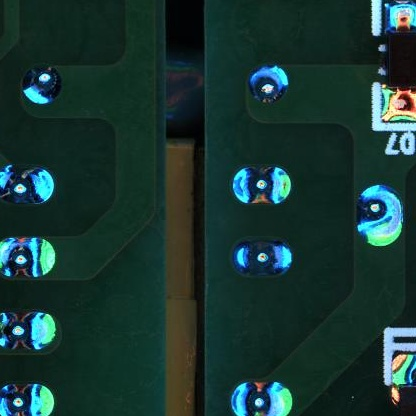spot: (358, 183, 403, 247), (1, 310, 58, 355), (230, 237, 294, 275), (1, 235, 55, 280), (230, 165, 292, 204), (231, 378, 293, 416), (1, 166, 52, 204), (1, 383, 55, 416), (21, 66, 62, 107), (251, 66, 289, 104)
